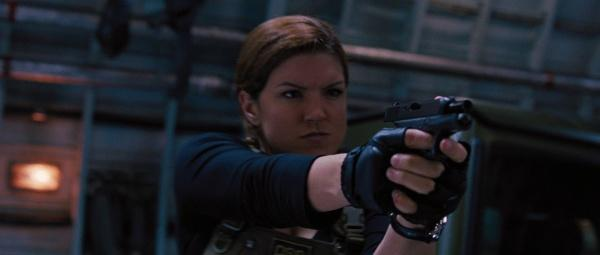Gun: (382, 98, 474, 157)
